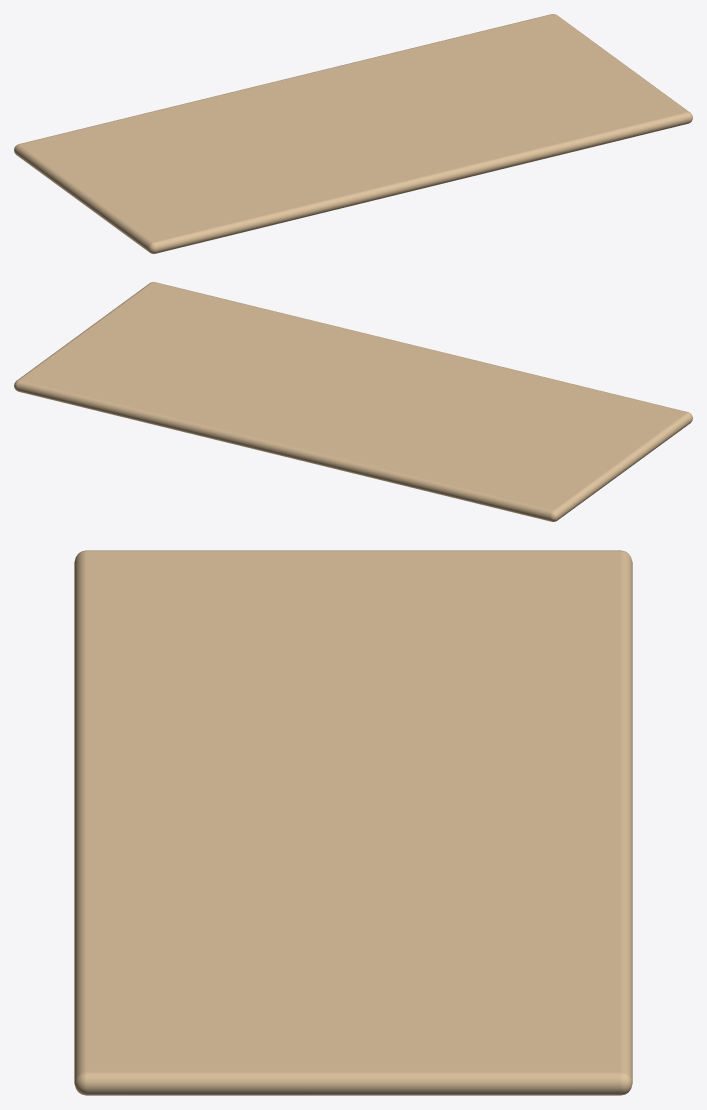
The model's file is tabletop.glb.
3 renders of one model, top to bottom at view 1: azimuth 30°, elevation 25°; view 2: azimuth 150°, elevation 25°; view 3: azimuth 270°, elevation 25°, orthographic. The views are drawn at different scales.
Parts seen in each view (by area): view 1: table_top; view 2: table_top; view 3: table_top.
Part boxes in pixels (x1,y1,x2,y2): table_top: [14, 14, 692, 253]; table_top: [14, 282, 692, 521]; table_top: [74, 550, 632, 1095].
Bounding box in the file's own units: 0.9 × 0.018 × 0.4.
